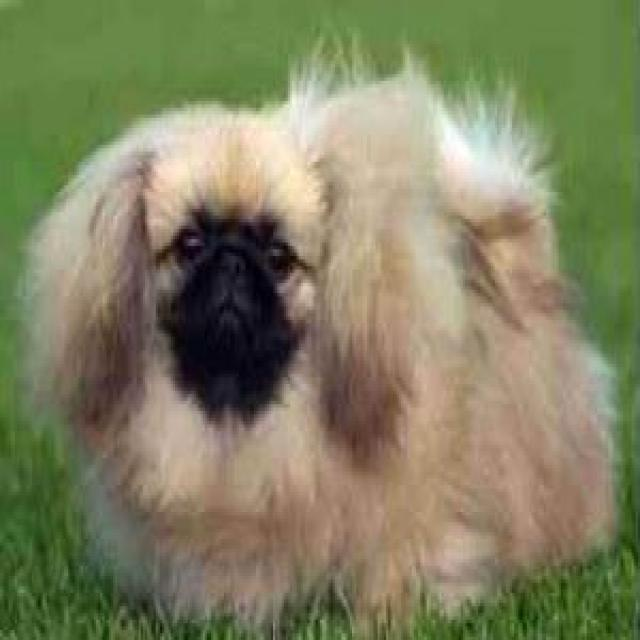pekinese: (17, 44, 625, 626)
